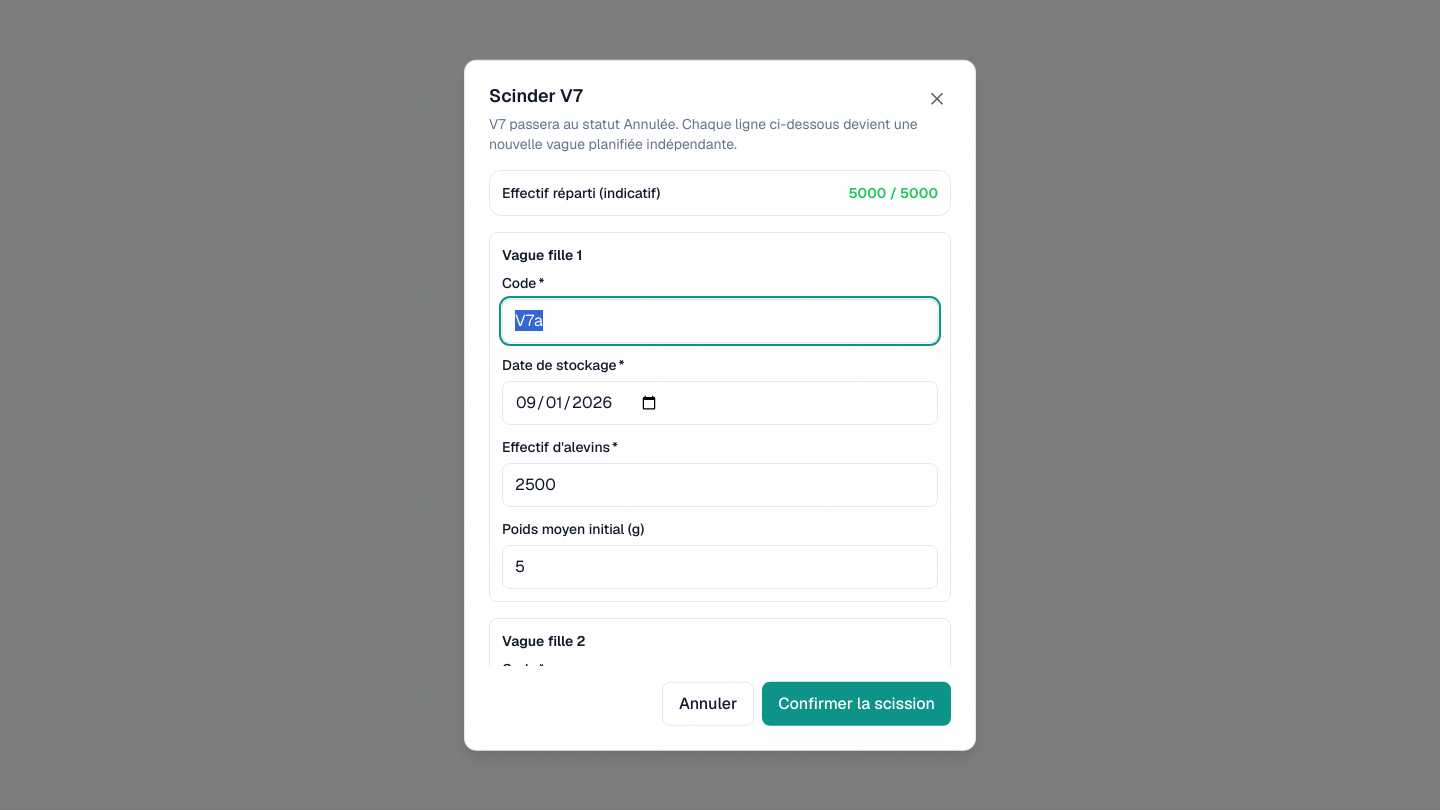
Test: ScissionDialog — validation des champs requis avant soumission › mettre l'effectif d'une ligne à 0 désactive le bouton de confirmation
The width and height of the screenshot is (1440, 810).
Replace the text in the number field labelled "Effectif d'alevins*" with "0" at (720, 484), box [502,462,938,506]
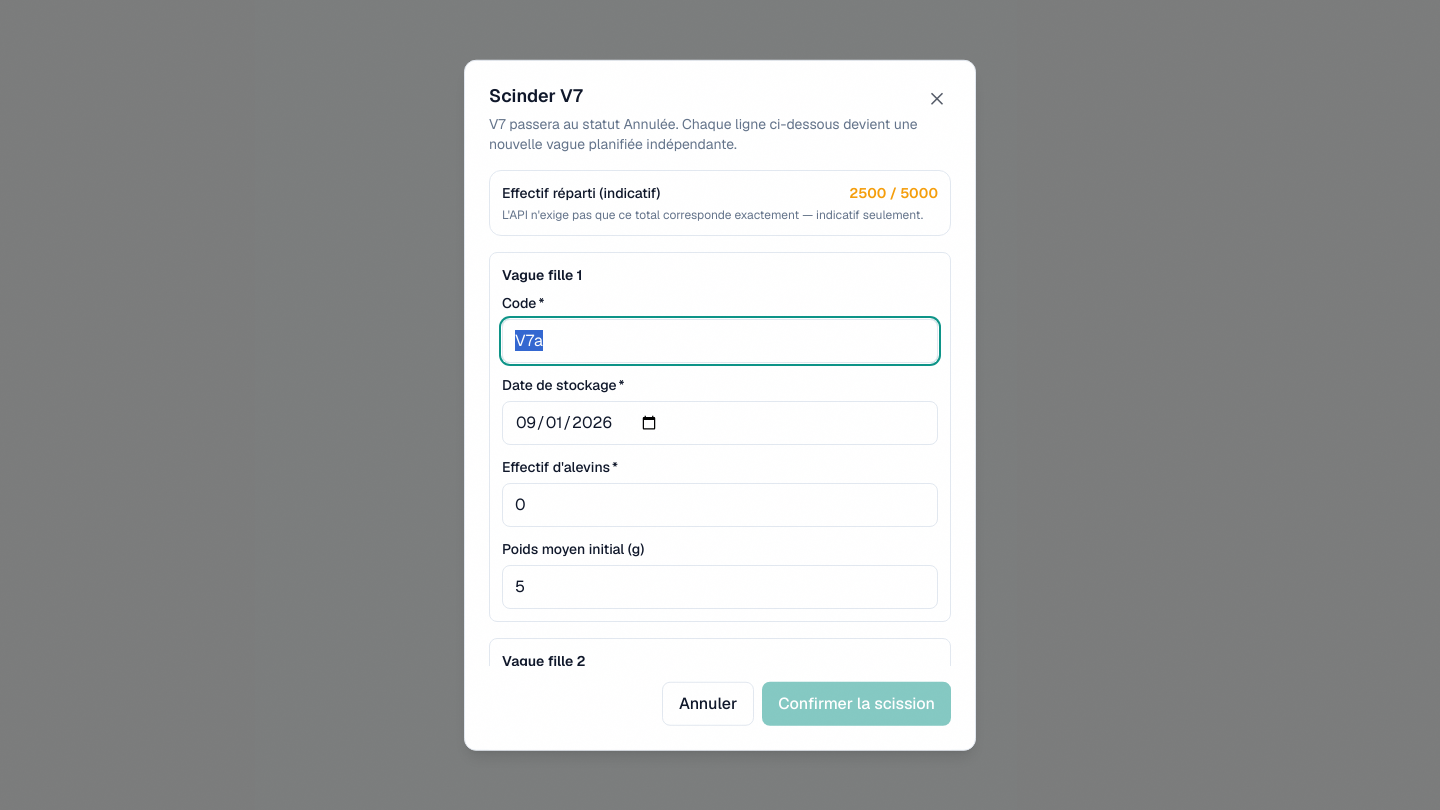
Result: the button "Confirmer la scission" is disabled at [762,681,951,725]
